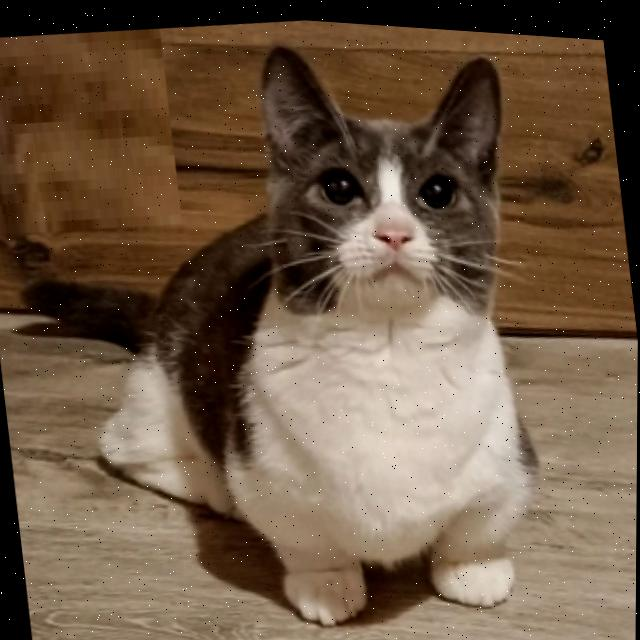Munchkin: (0, 0, 571, 640)
